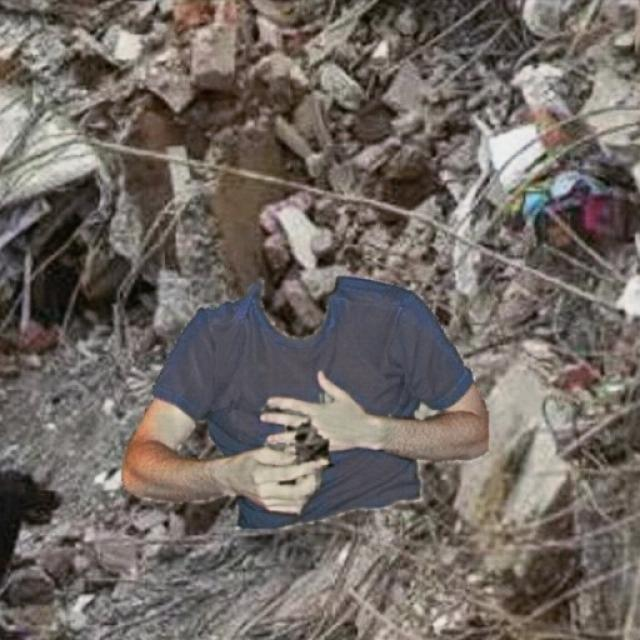Person in Rubble: (121, 274, 488, 528)
